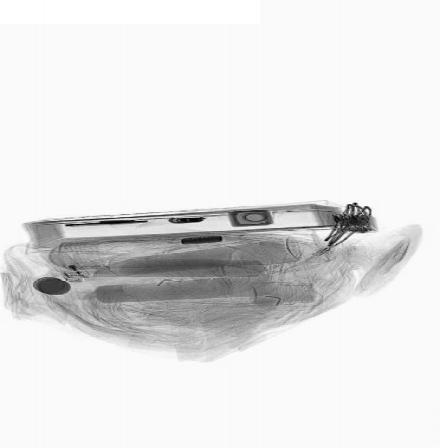Lighter: (39, 249, 101, 284)
